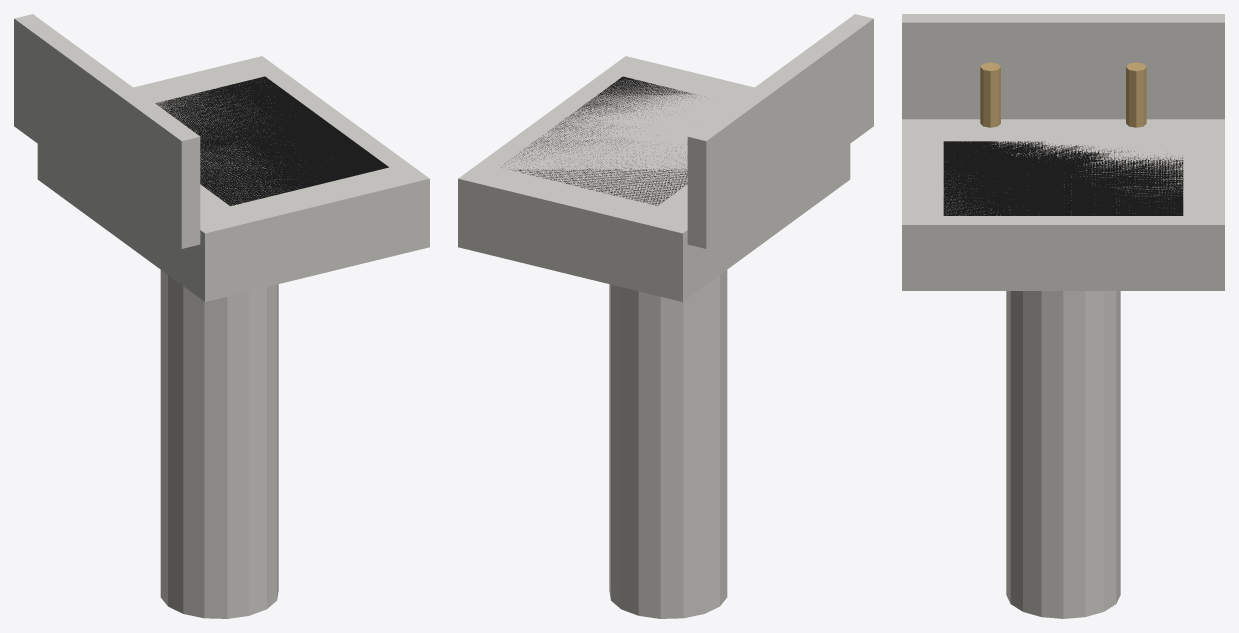
The model's file is SM_Mob_Lavabo.fbx.
3 renders of one model, left to right at view 1: azimuth 30°, elevation 25°; view 2: azimuth 150°, elevation 25°; view 3: azimuth 270°, elevation 25°, orthographic. The views are drawn at different scales.
Parts seen in each view (by area): view 1: Mob_Lavabo; view 2: Mob_Lavabo; view 3: Mob_Lavabo.
Part boxes in pixels (x1,y1,x2,y2): Mob_Lavabo: (14,14,429,618); Mob_Lavabo: (458,14,873,618); Mob_Lavabo: (902,14,1224,618).
Size of the model in its own units: 53 by 111 by 62.
